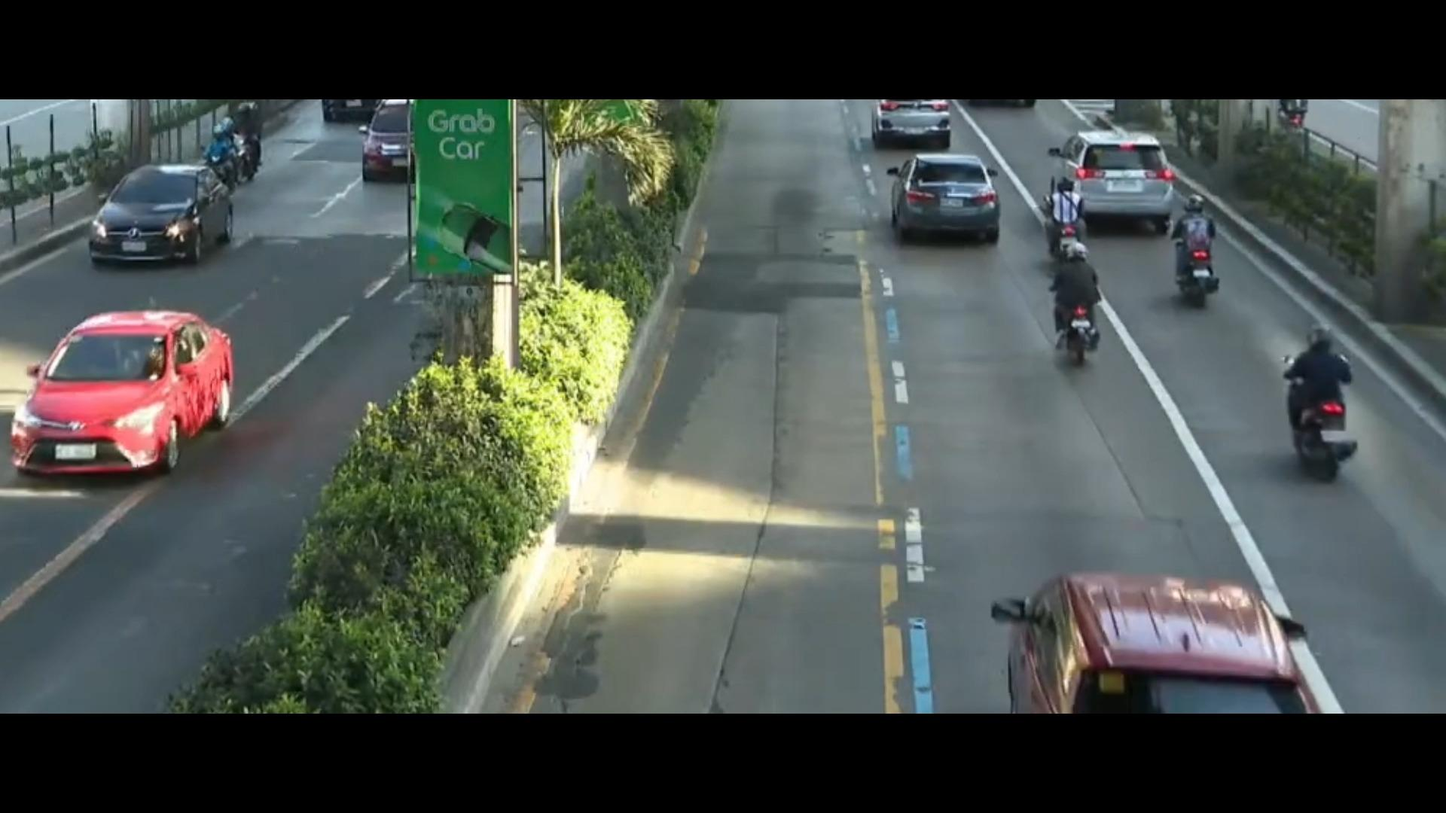Motorcycle: (1018, 239, 1143, 384), (1270, 326, 1380, 480), (1146, 189, 1251, 325), (1010, 177, 1096, 250), (226, 104, 281, 182), (179, 111, 230, 180)
SUV: (957, 548, 1339, 716), (1049, 117, 1182, 227), (368, 96, 423, 173)
Sedan: (0, 292, 270, 501), (77, 149, 273, 268), (878, 138, 1013, 230)
